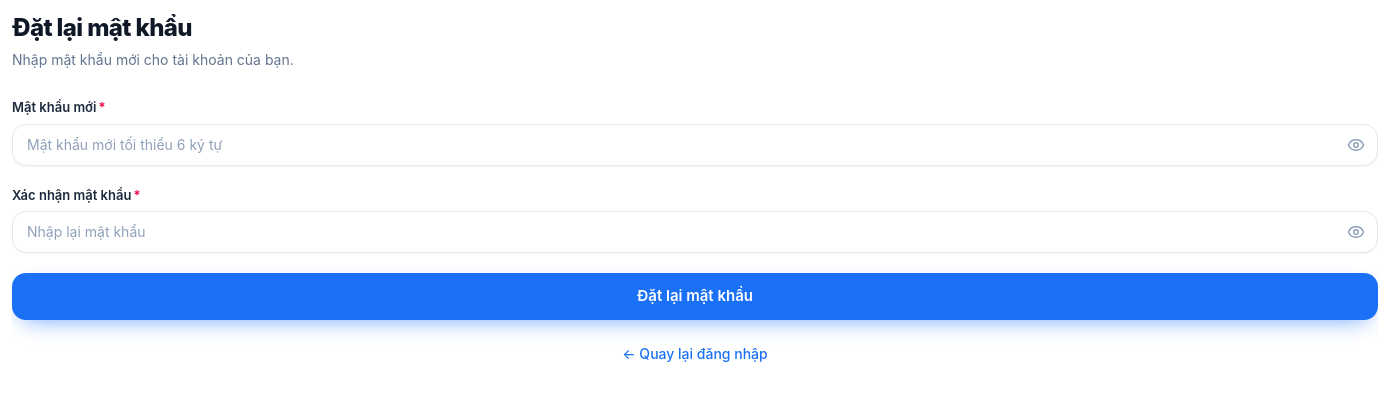
it: ResetPassword › mật khẩu không khớp → lỗi, không gọi API
Type "Abc12345" into the password field with placeholder "Mật khẩu mới tối thiểu 6 ký tự" at point(695, 144), box [12,124,1378,166]
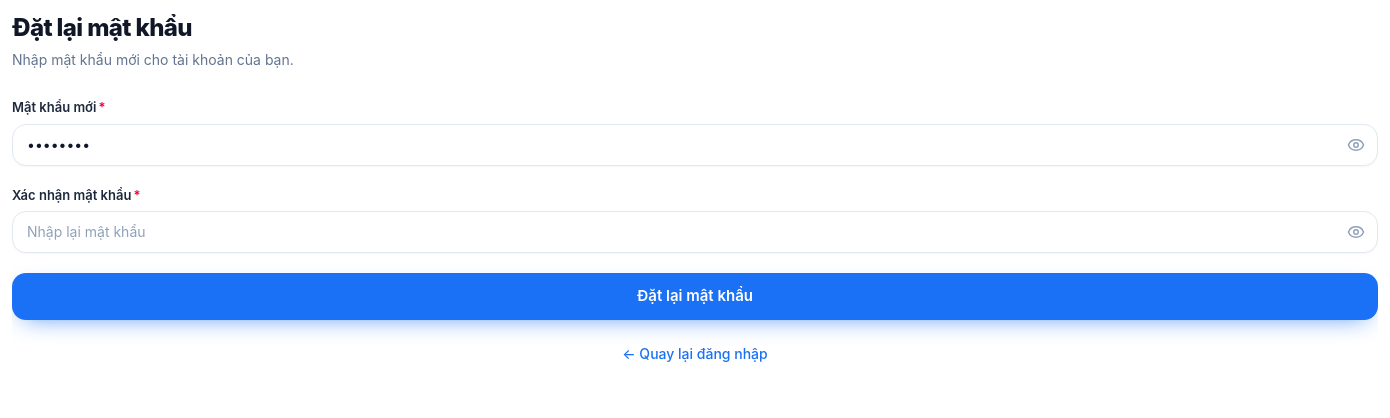
Type "Abc12346" into the password field with placeholder "Nhập lại mật khẩu" at point(695, 232), box [12,211,1378,253]
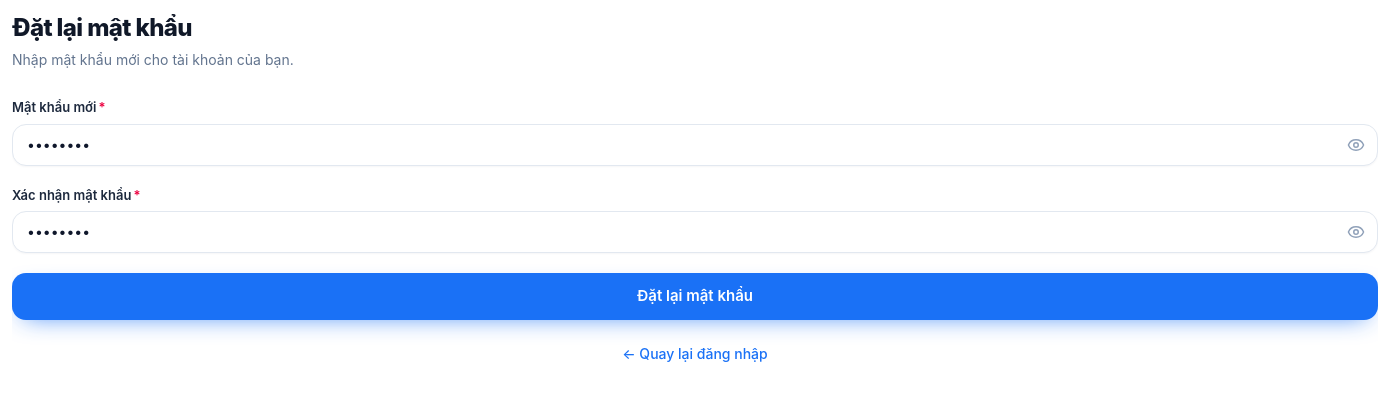
Click the button "Đặt lại mật khẩu" at point(695, 296), box [12,273,1378,320]
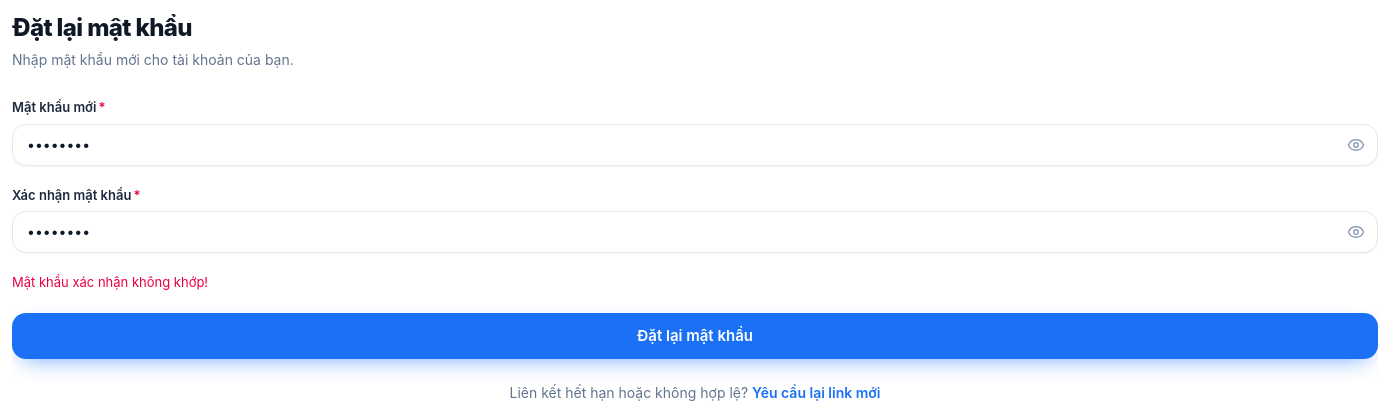
Expected: the text "Mật khẩu xác nhận không khớp!" is shown, [12,274,208,290]
